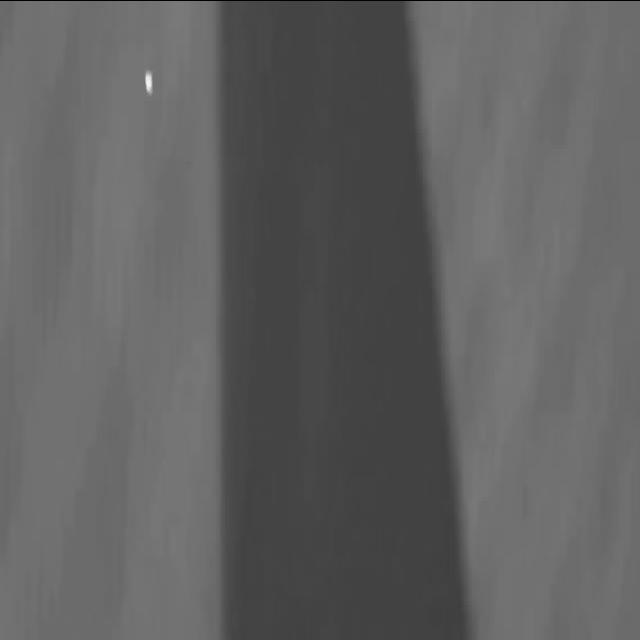baseball: (144, 70, 154, 94)
